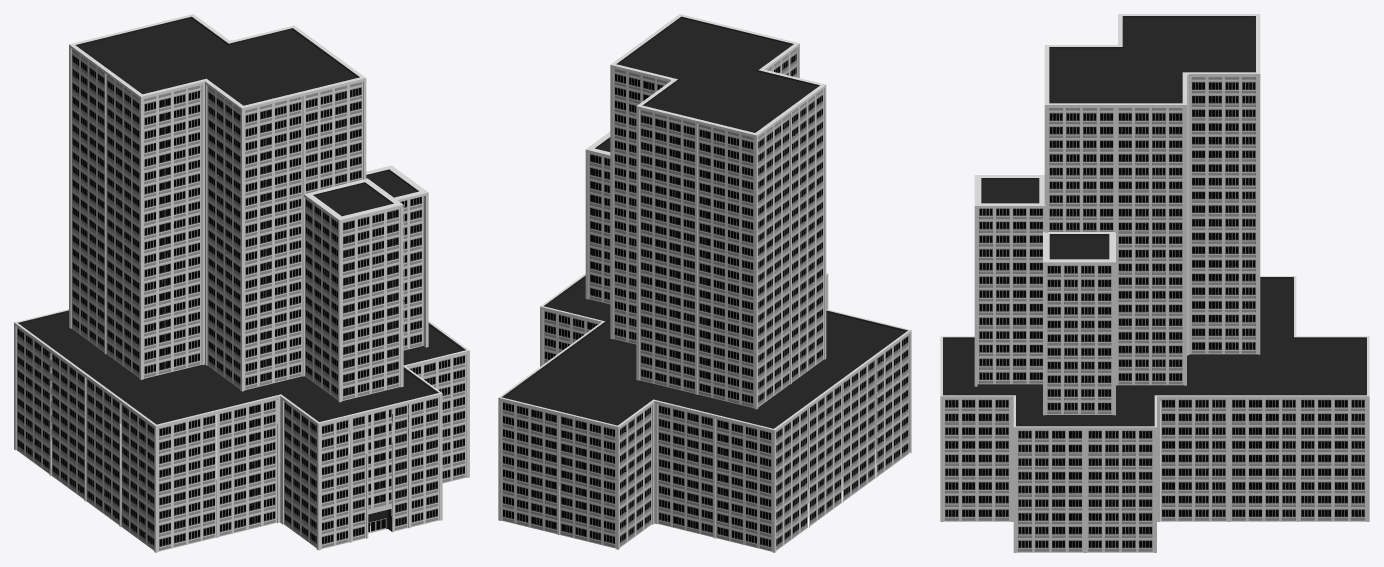
The model's file is building.glb.
3 views of the same model, side by side, from view 1: azimuth 30°, elevation 25°; view 2: azimuth 150°, elevation 25°; view 3: azimuth 270°, elevation 25° (orthographic). The views are drawn at different scales.
Parts seen in each view (by area): view 1: Material2 (×3); view 2: Material2 (×3); view 3: Material2 (×3).
Boxes of the visible parts, x1,y1,x2,y2 form: Material2 (×3): (14,14,469,552); Material2 (×3): (498,14,911,552); Material2 (×3): (940,14,1369,552).
Bounding box in the file's own units: 2560 × 3200 × 3070.
4 materials, 1 textured.
